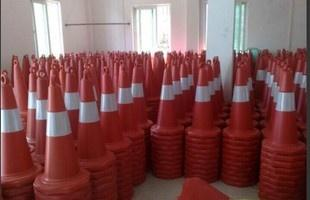cone_barrel: (38, 81, 78, 186), (75, 72, 106, 161), (265, 70, 299, 149), (153, 61, 180, 132), (188, 64, 214, 134), (98, 70, 122, 145), (227, 64, 251, 136), (114, 65, 135, 136), (129, 63, 146, 128)
